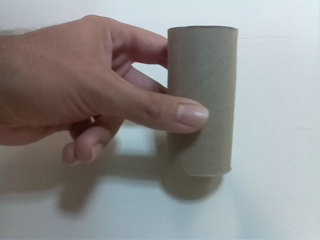rollo papel: (163, 25, 239, 178)
